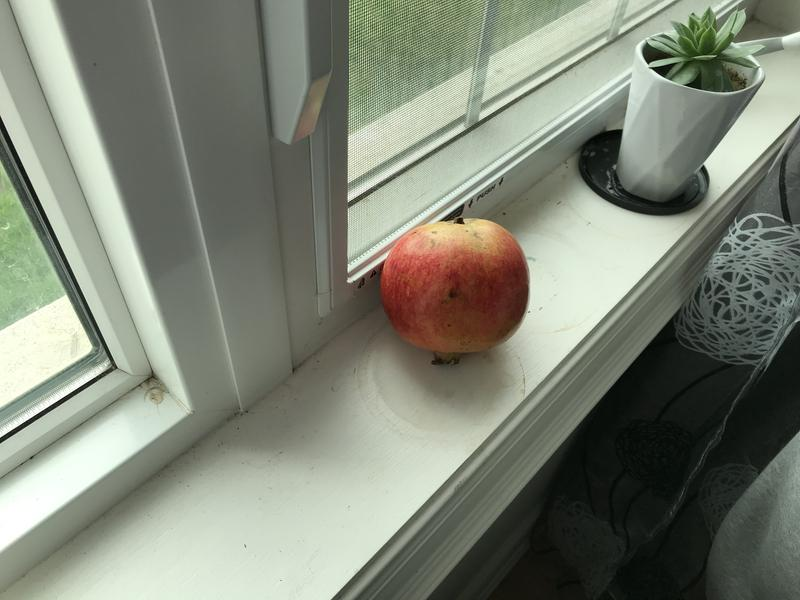pomegranate: (372, 210, 536, 375)
